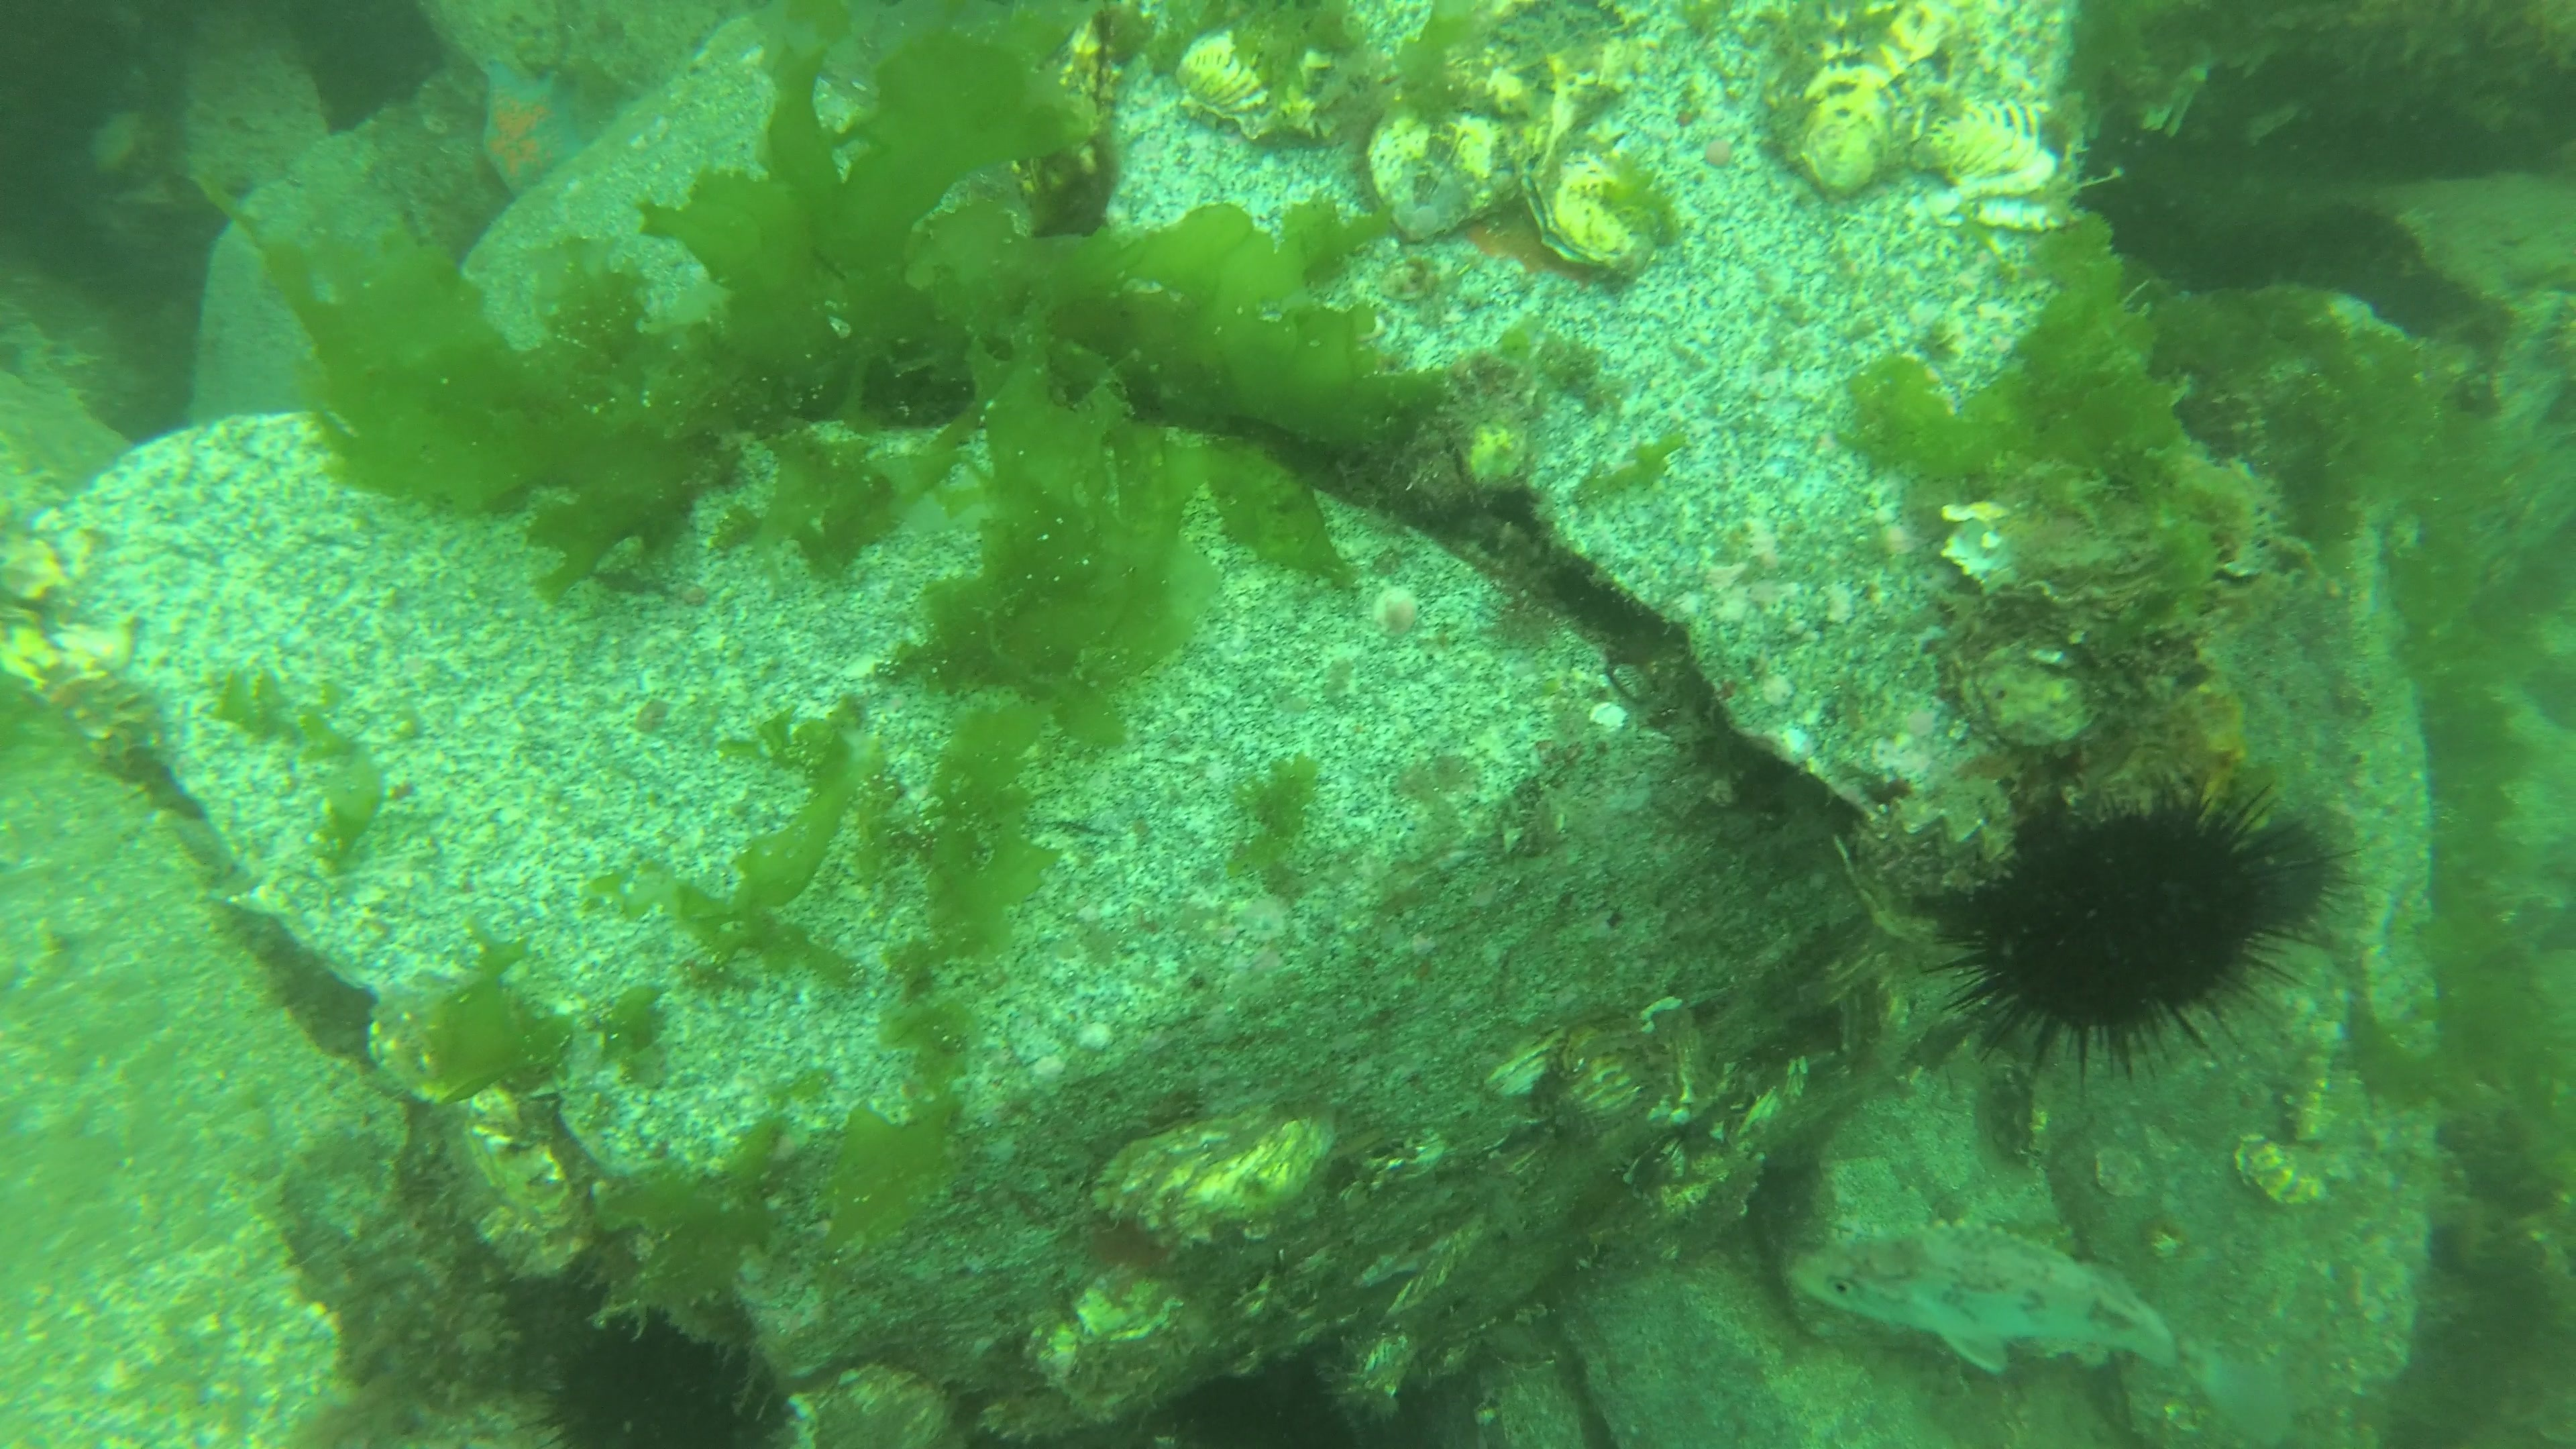echinus: (1916, 768, 2367, 1095), (511, 1304, 752, 1449)
starfish: (478, 48, 610, 203)
